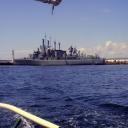Fragata: (13, 33, 109, 68)
